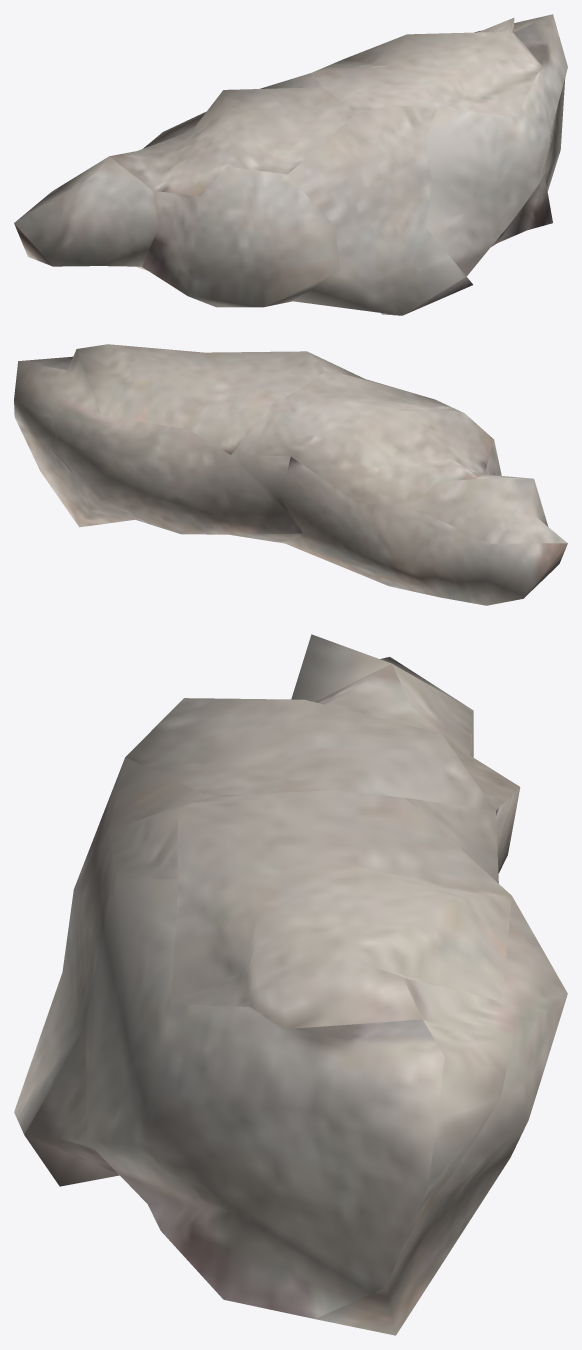
File: Q_Limestone_12.fbx
The picture shows the model from 3 angles, top to bottom: view 1: azimuth 30°, elevation 25°; view 2: azimuth 150°, elevation 25°; view 3: azimuth 270°, elevation 25°; orthographic projection. The views are drawn at different scales.
Visible parts, largest first — view 1: Aset_stone_rough_S_udmhajrva_01_LOD6; view 2: Aset_stone_rough_S_udmhajrva_01_LOD6; view 3: Aset_stone_rough_S_udmhajrva_01_LOD6.
Boxes of the visible parts, x1,y1,x2,y2 form: Aset_stone_rough_S_udmhajrva_01_LOD6: (14,14,567,315); Aset_stone_rough_S_udmhajrva_01_LOD6: (14,344,567,605); Aset_stone_rough_S_udmhajrva_01_LOD6: (14,634,567,1335).
Bounding box in the file's own units: 55.73 × 17.58 × 24.58.
Materials: 1 (1 with a texture image).
